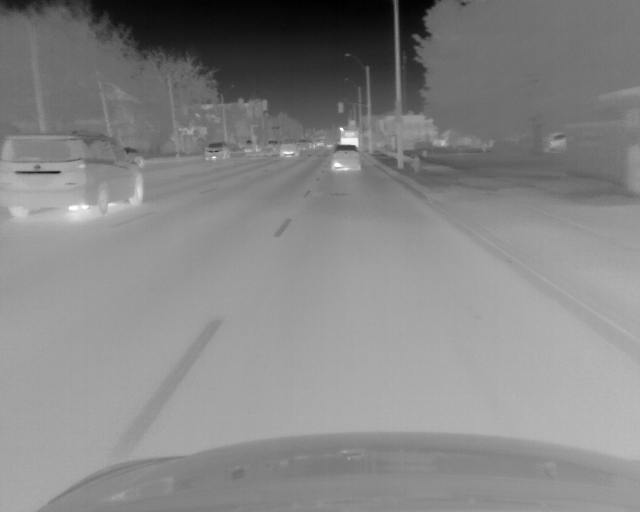car: (1, 131, 143, 224), (330, 144, 362, 173), (335, 126, 360, 147), (204, 143, 229, 161), (545, 130, 566, 151), (278, 140, 297, 158), (296, 138, 310, 155)
